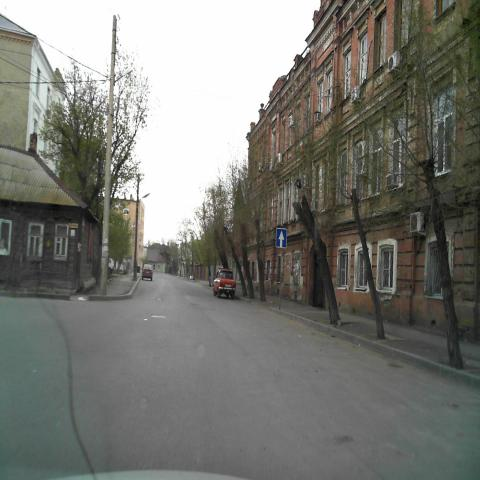5_5: (276, 228, 287, 248)
